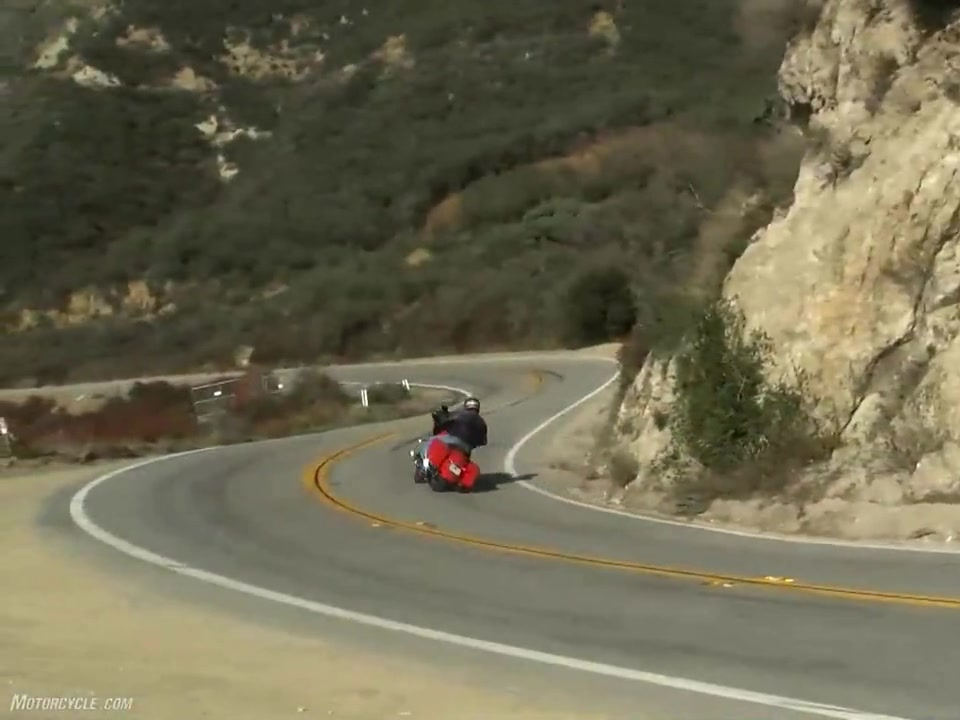motorbike: (411, 409, 489, 498)
